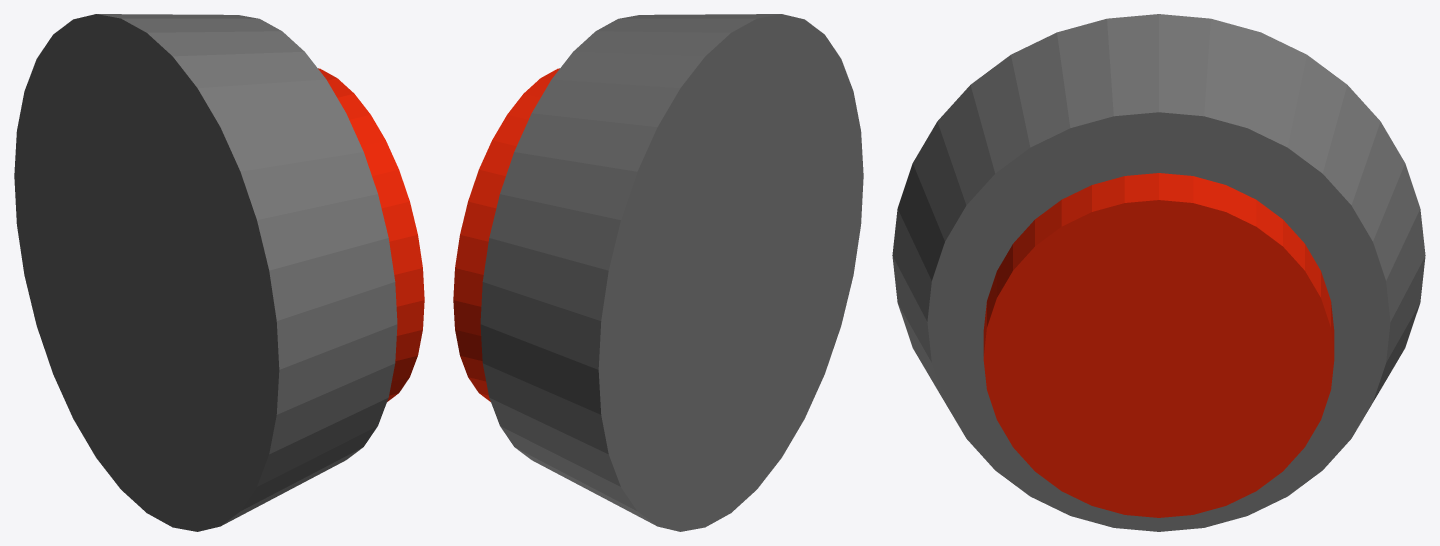
The model's file is botton.fbx.
The picture shows the model from 3 angles, left to right: view 1: azimuth 30°, elevation 25°; view 2: azimuth 150°, elevation 25°; view 3: azimuth 270°, elevation 25°; orthographic projection.
Parts seen in each view (by area): view 1: 円柱, 円柱.001; view 2: 円柱, 円柱.001; view 3: 円柱, 円柱.001.
Part boxes in pixels (box(x1,y1,x2,y2)): 円柱: box(14, 14, 397, 531); 円柱.001: box(318, 68, 424, 401); 円柱: box(480, 14, 863, 531); 円柱.001: box(453, 68, 559, 401); 円柱: box(892, 14, 1425, 531); 円柱.001: box(983, 173, 1334, 517).
Size of the model in its own units: 83.07 by 200 by 200.
